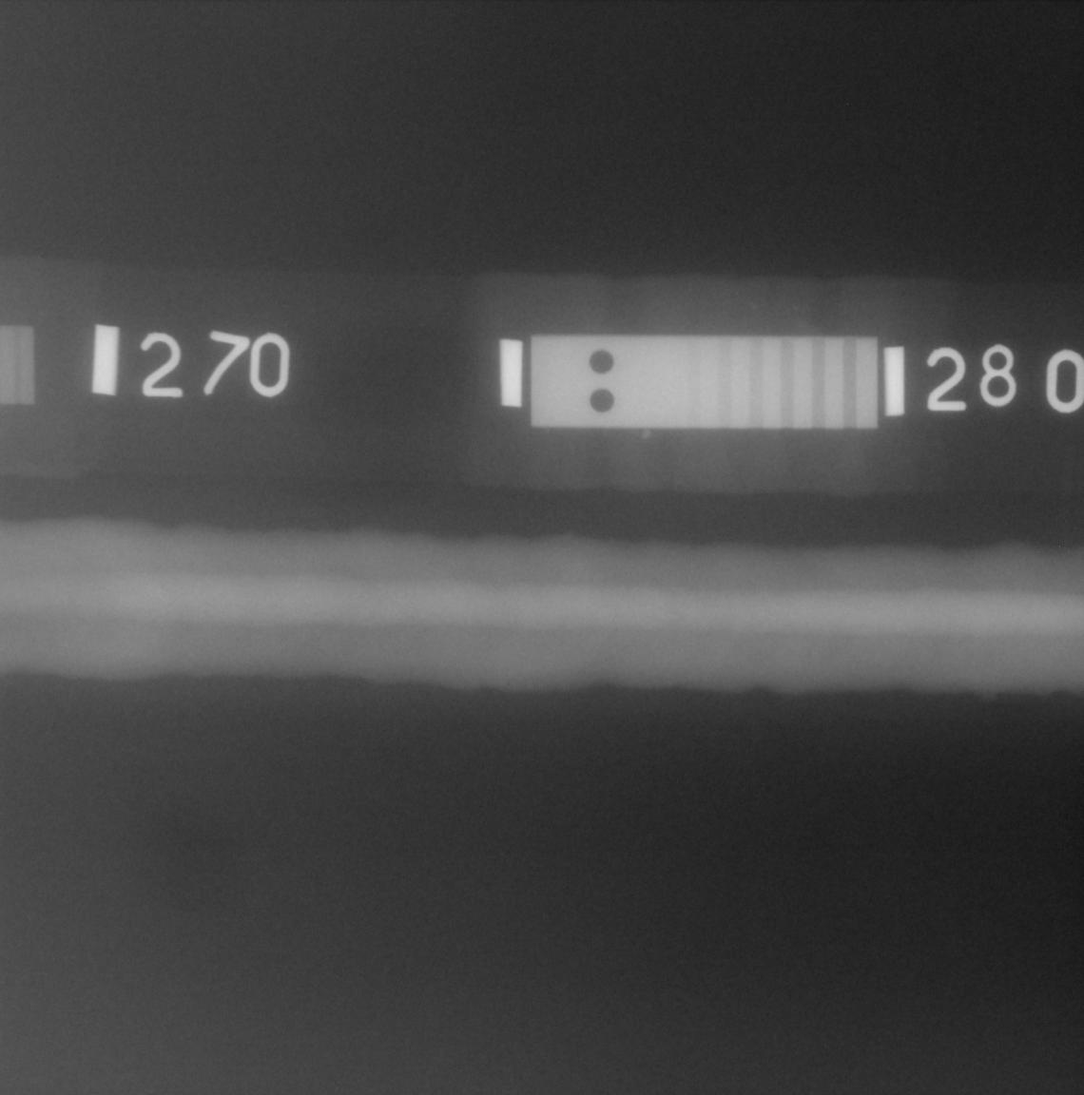Reference Standard 2: (531, 336, 878, 429)
